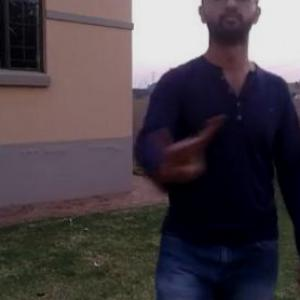takeoff-hand: (149, 106, 219, 182)
